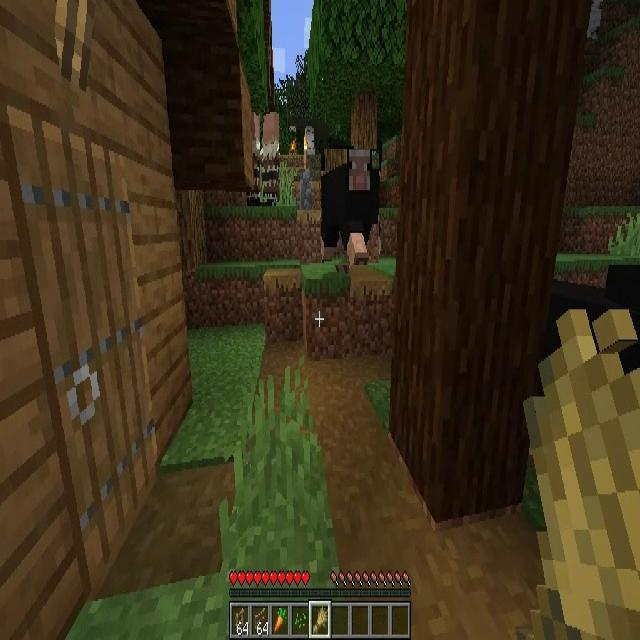people: (260, 112, 279, 202), (247, 113, 260, 204)
sheep: (322, 149, 379, 265)
